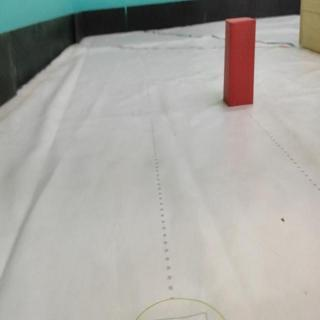redbox: (224, 17, 257, 107)
